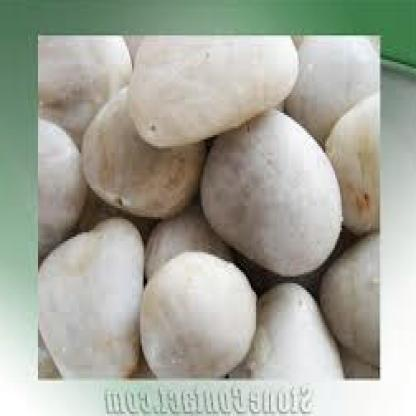Metamorphic_Marble: (182, 109, 350, 261), (114, 38, 307, 146), (31, 210, 147, 376), (137, 228, 264, 374), (233, 274, 355, 376)
